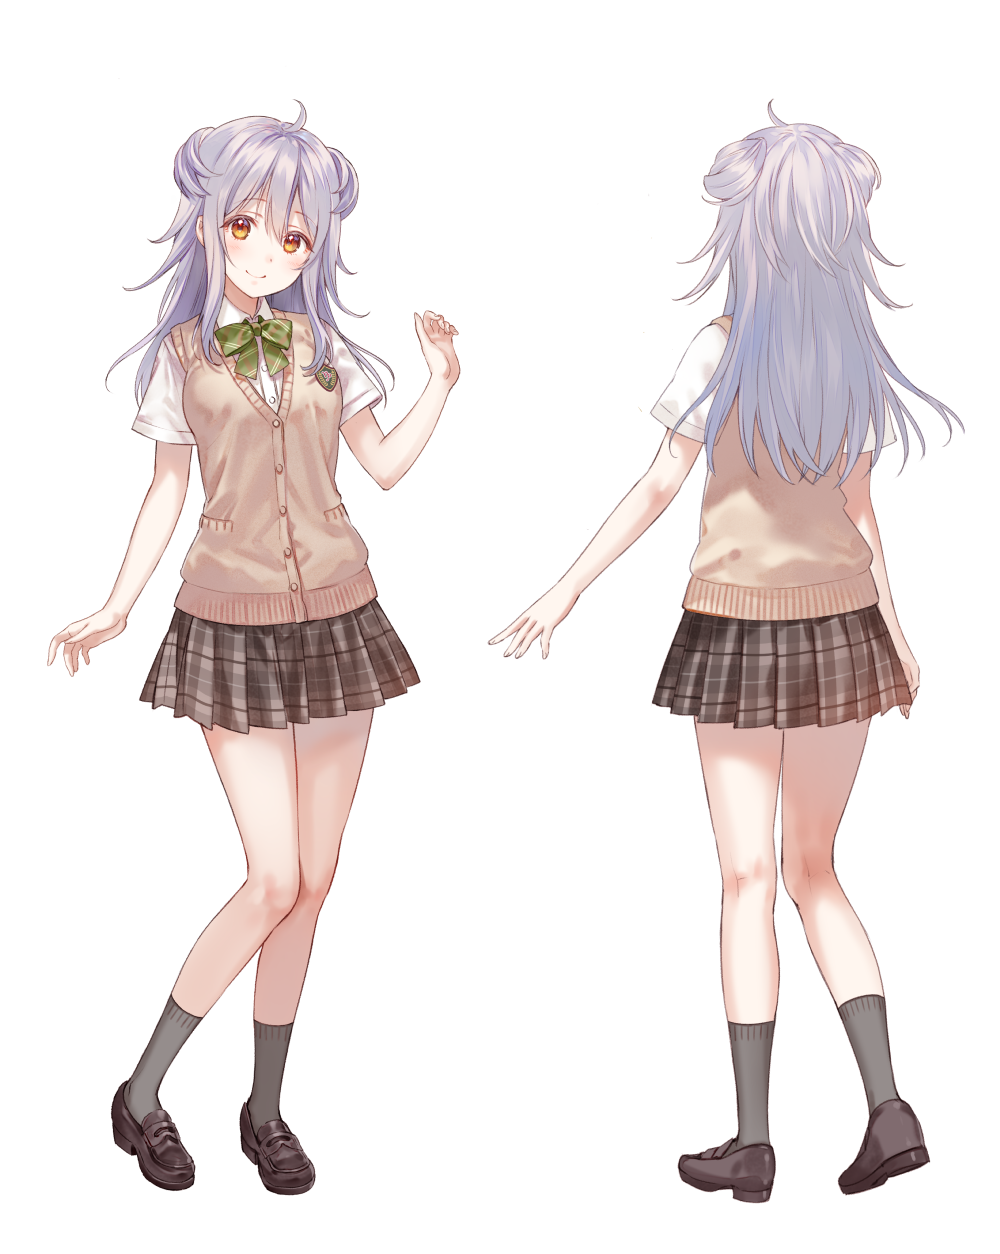纸片人正脸: (157, 102, 362, 316)
